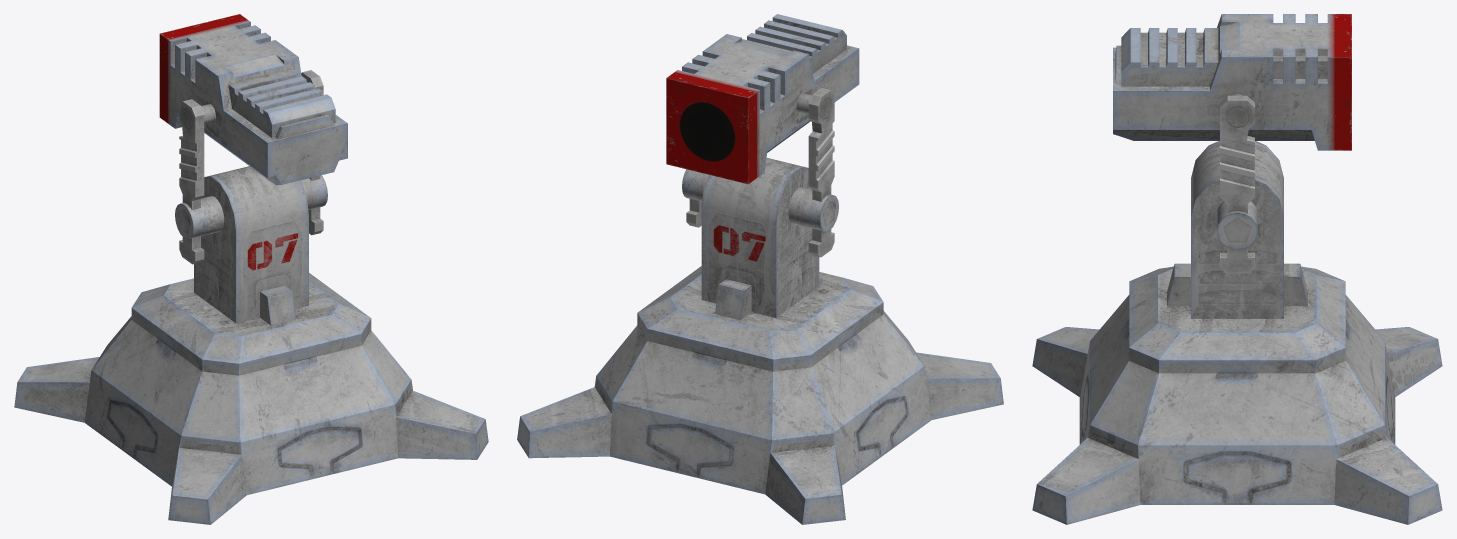
File: enemy.glb
3 renders of one model, left to right at view 1: azimuth 30°, elevation 25°; view 2: azimuth 150°, elevation 25°; view 3: azimuth 270°, elevation 25°, orthographic. The views are drawn at different scales.
Visible parts, largest first — view 1: Base_low, Gun_low, Tower_low, Stand_low; view 2: Base_low, Gun_low, Tower_low, Stand_low; view 3: Base_low, Gun_low, Tower_low, Stand_low.
Boxes of the visible parts, bbox=[...] form: Base_low: bbox=[14, 273, 488, 524]; Gun_low: bbox=[159, 14, 347, 185]; Tower_low: bbox=[175, 166, 327, 325]; Stand_low: bbox=[179, 70, 323, 264]; Base_low: bbox=[517, 266, 1003, 524]; Gun_low: bbox=[666, 14, 859, 184]; Tower_low: bbox=[682, 158, 838, 320]; Stand_low: bbox=[686, 88, 834, 257]; Base_low: bbox=[1032, 266, 1442, 524]; Gun_low: bbox=[1113, 14, 1351, 150]; Tower_low: bbox=[1167, 141, 1307, 318]; Stand_low: bbox=[1220, 95, 1254, 273].
Bounding box in the file's own units: 2.87 × 3.11 × 2.87.
Materials: 1 (1 with a texture image).
